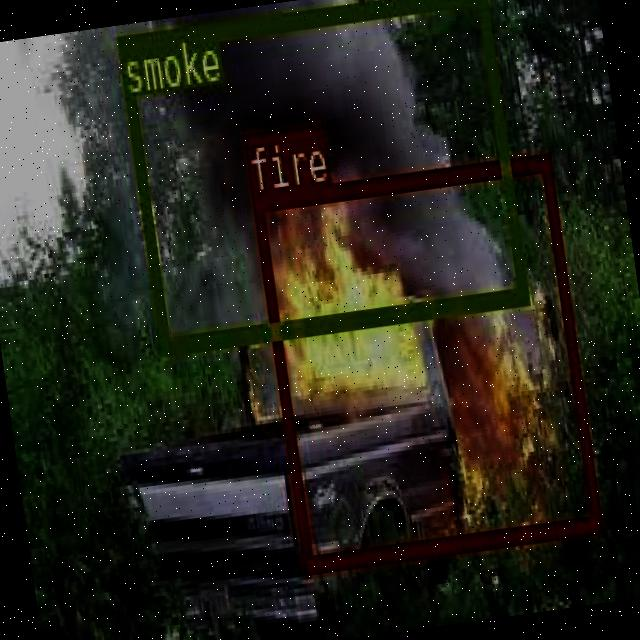fire: (250, 152, 600, 569)
smoke: (115, 0, 527, 353)
